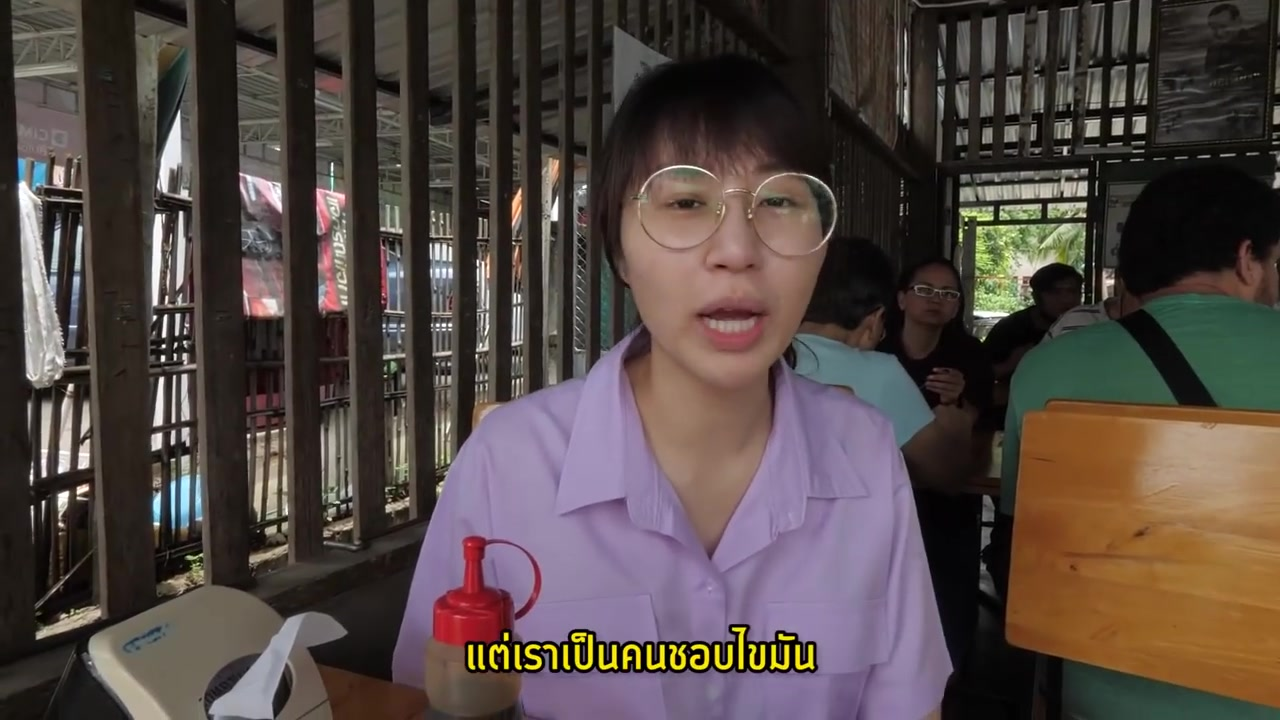text-label: (465, 623, 822, 676)
